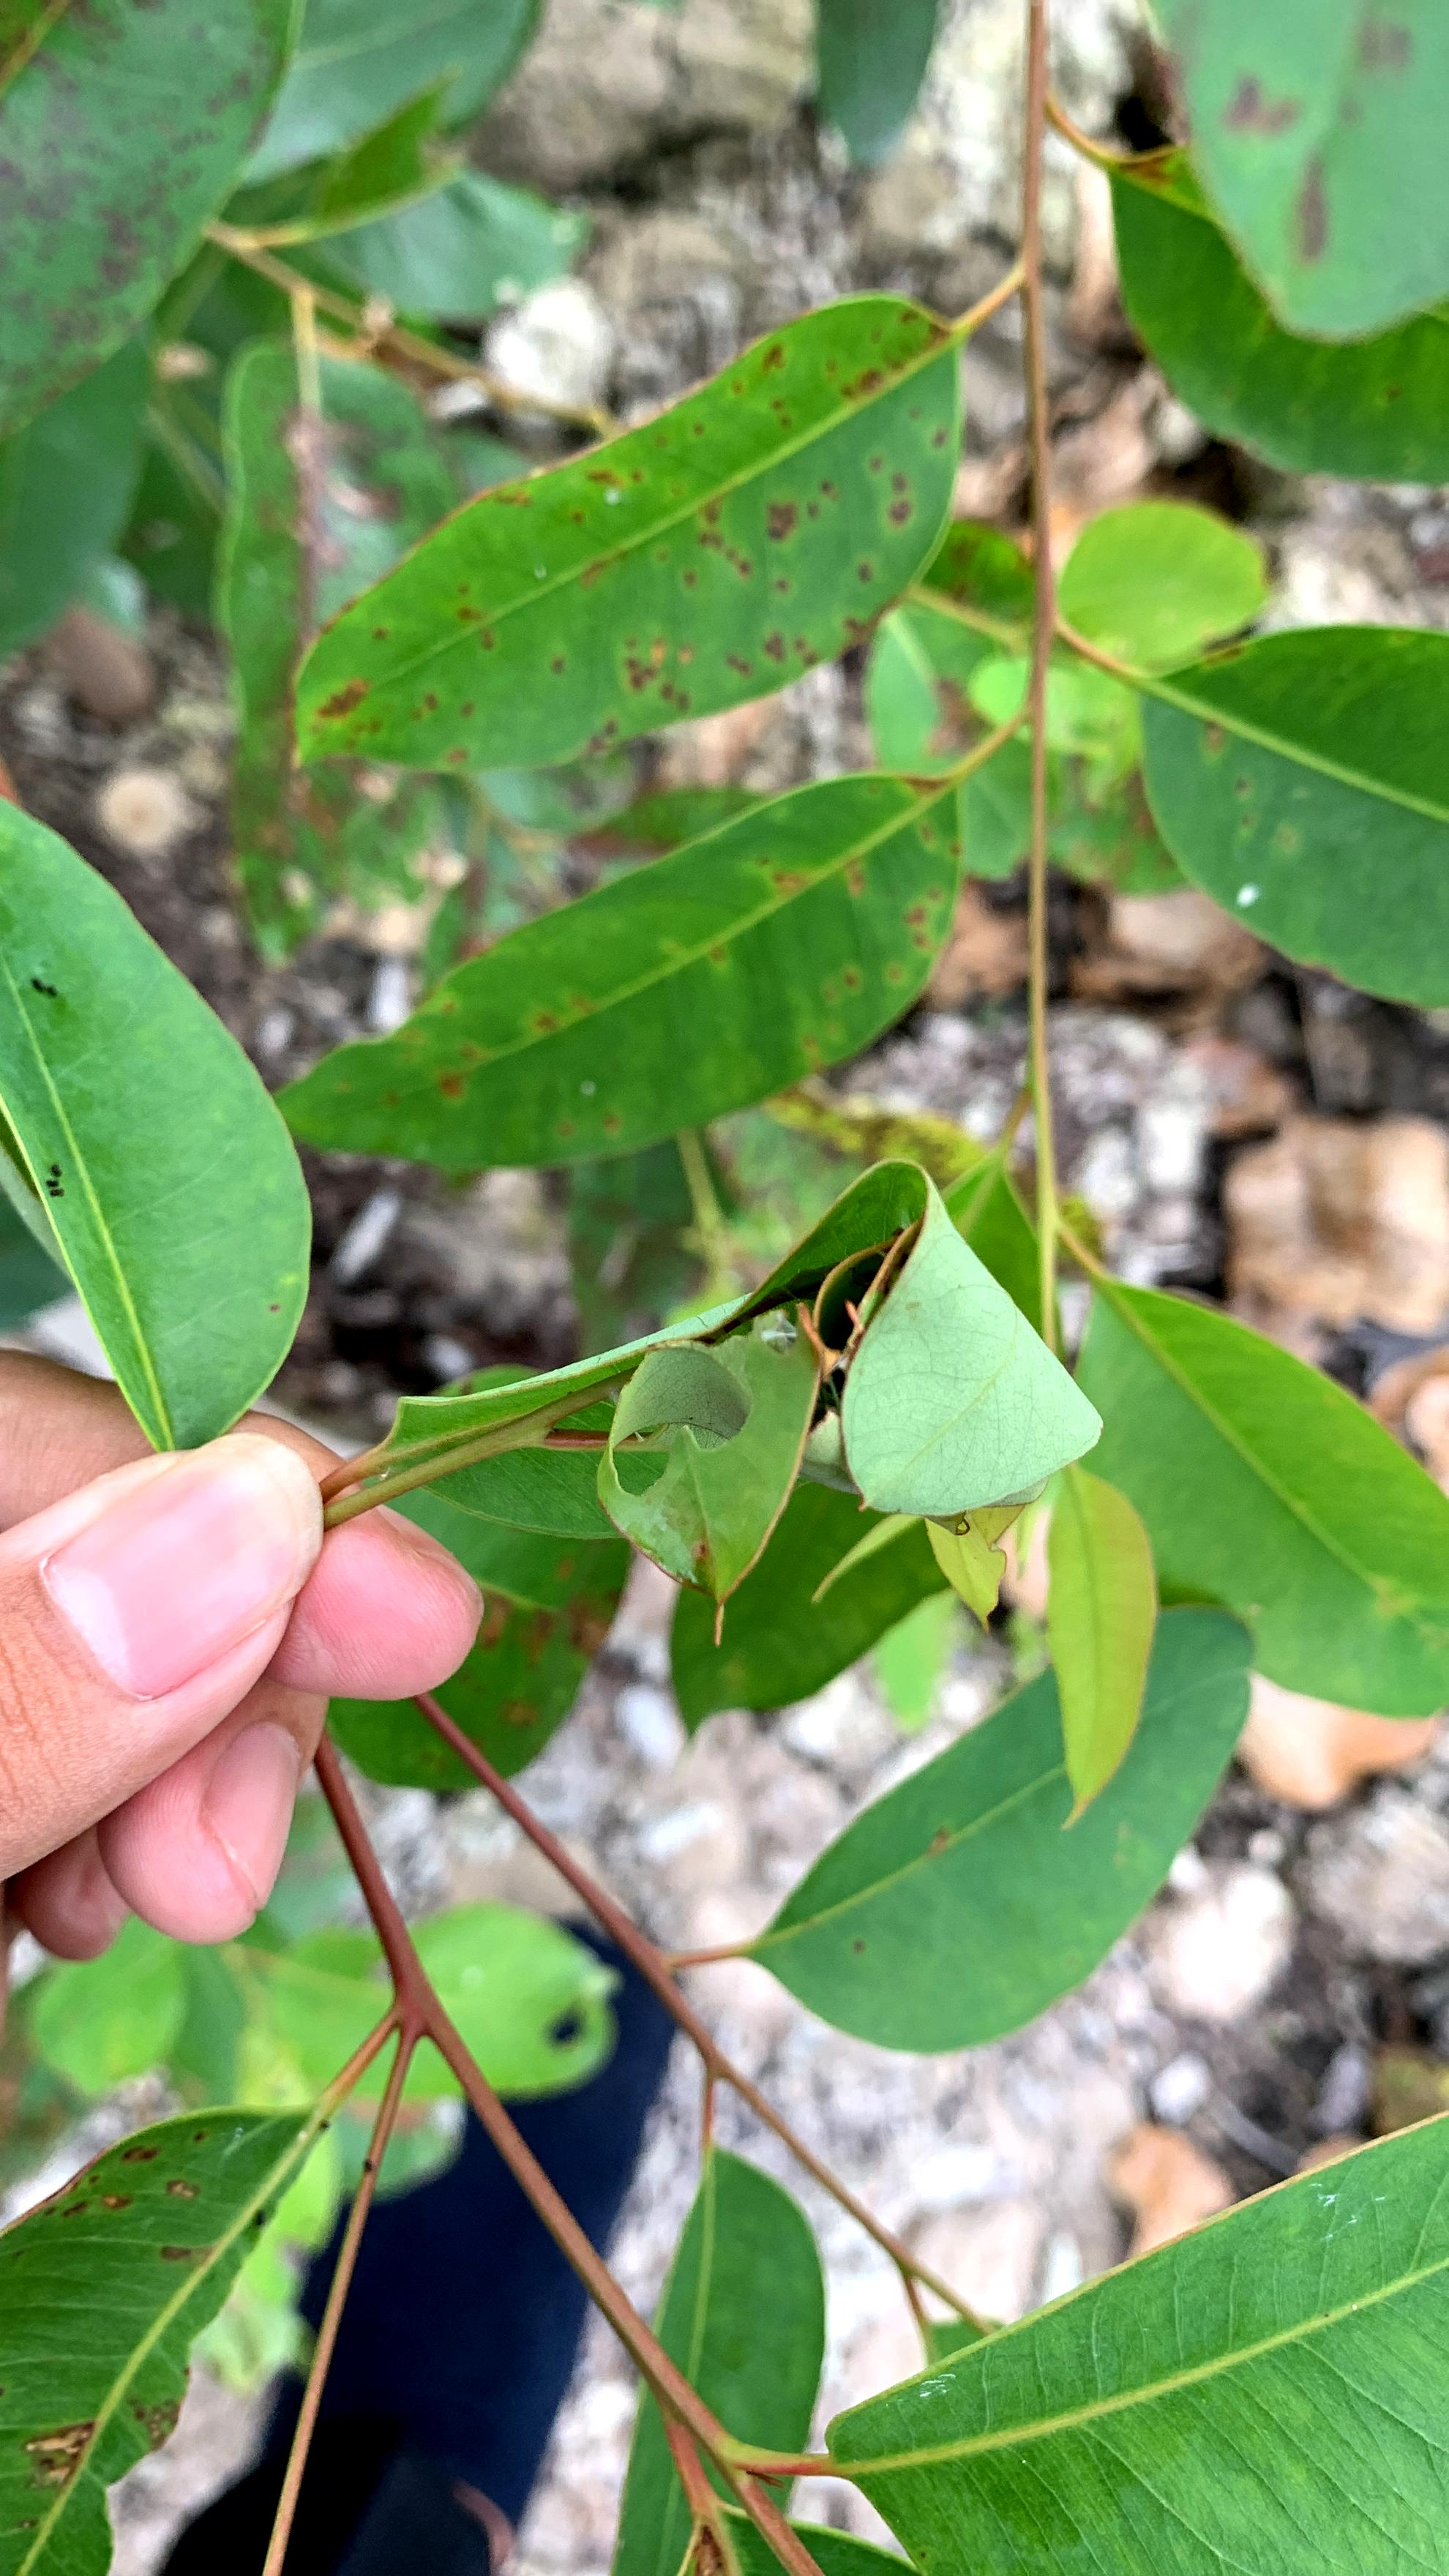Leaf Roller - Leaf: (527, 1161, 1109, 1557)
